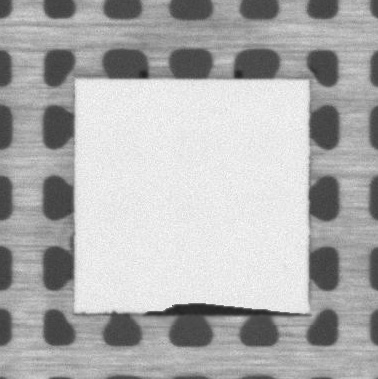DIE_BROKEN: (145, 297, 314, 319)
